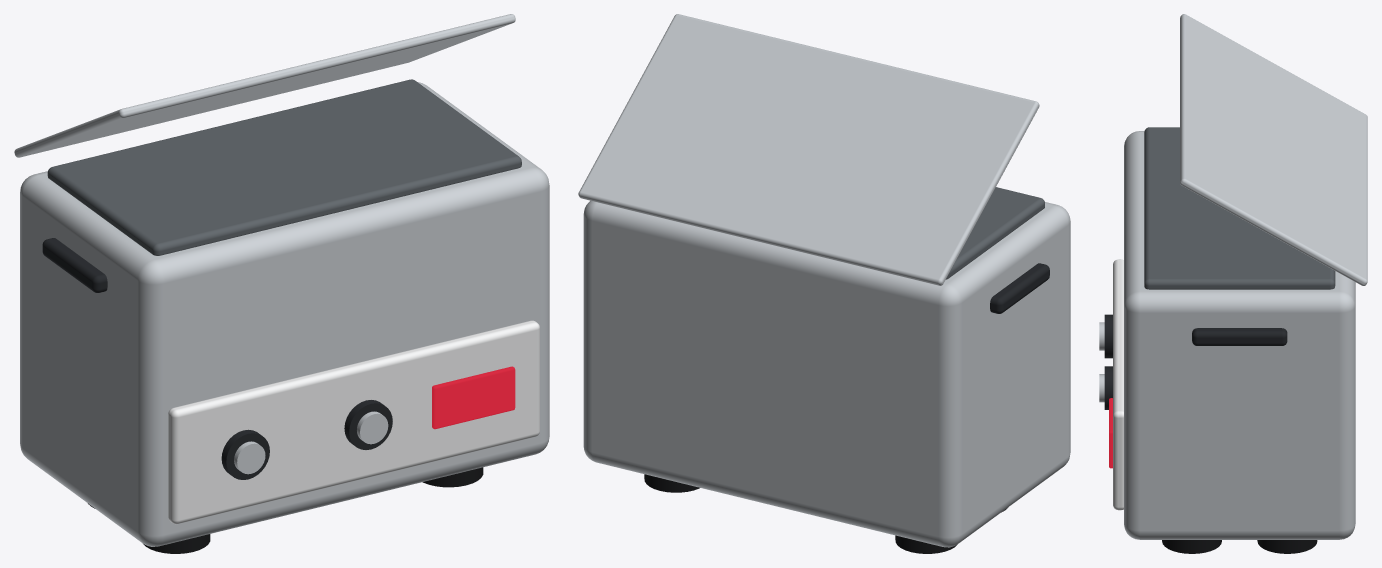
The model's file is nub-6.glb.
3 renders of one model, left to right at view 1: azimuth 30°, elevation 25°; view 2: azimuth 150°, elevation 25°; view 3: azimuth 270°, elevation 25°, orthographic. The views are drawn at different scales.
Size of the model in its own units: 0.318 by 0.3134 by 0.1968.
